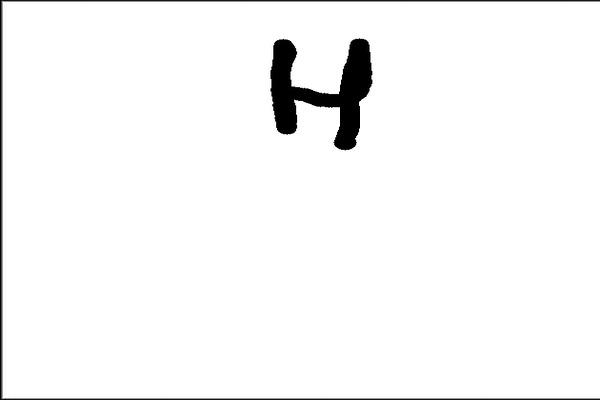H: (263, 32, 376, 150)
